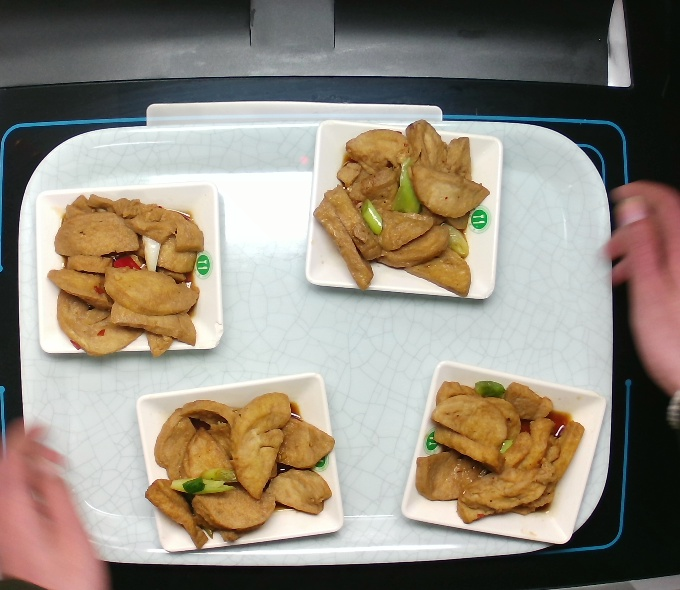wcq-SuJi: (131, 386, 350, 552), (307, 119, 495, 308), (44, 179, 223, 362), (401, 364, 590, 525)
